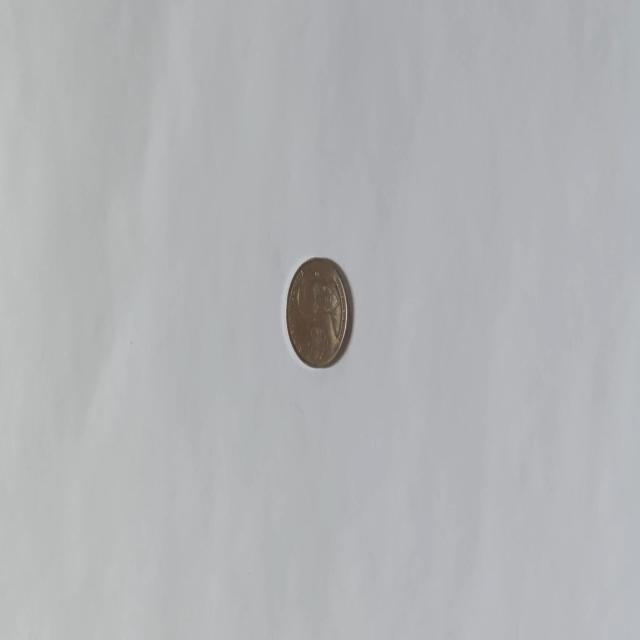seribu rupiah koin: (284, 255, 350, 369)
